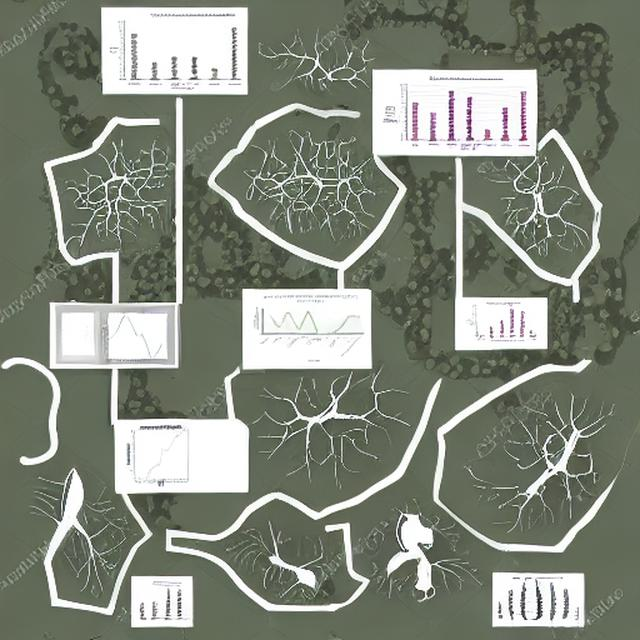Graph: (380, 75, 533, 153), (108, 12, 244, 92), (250, 292, 367, 364), (118, 422, 203, 486), (98, 307, 175, 365), (464, 300, 540, 345)
